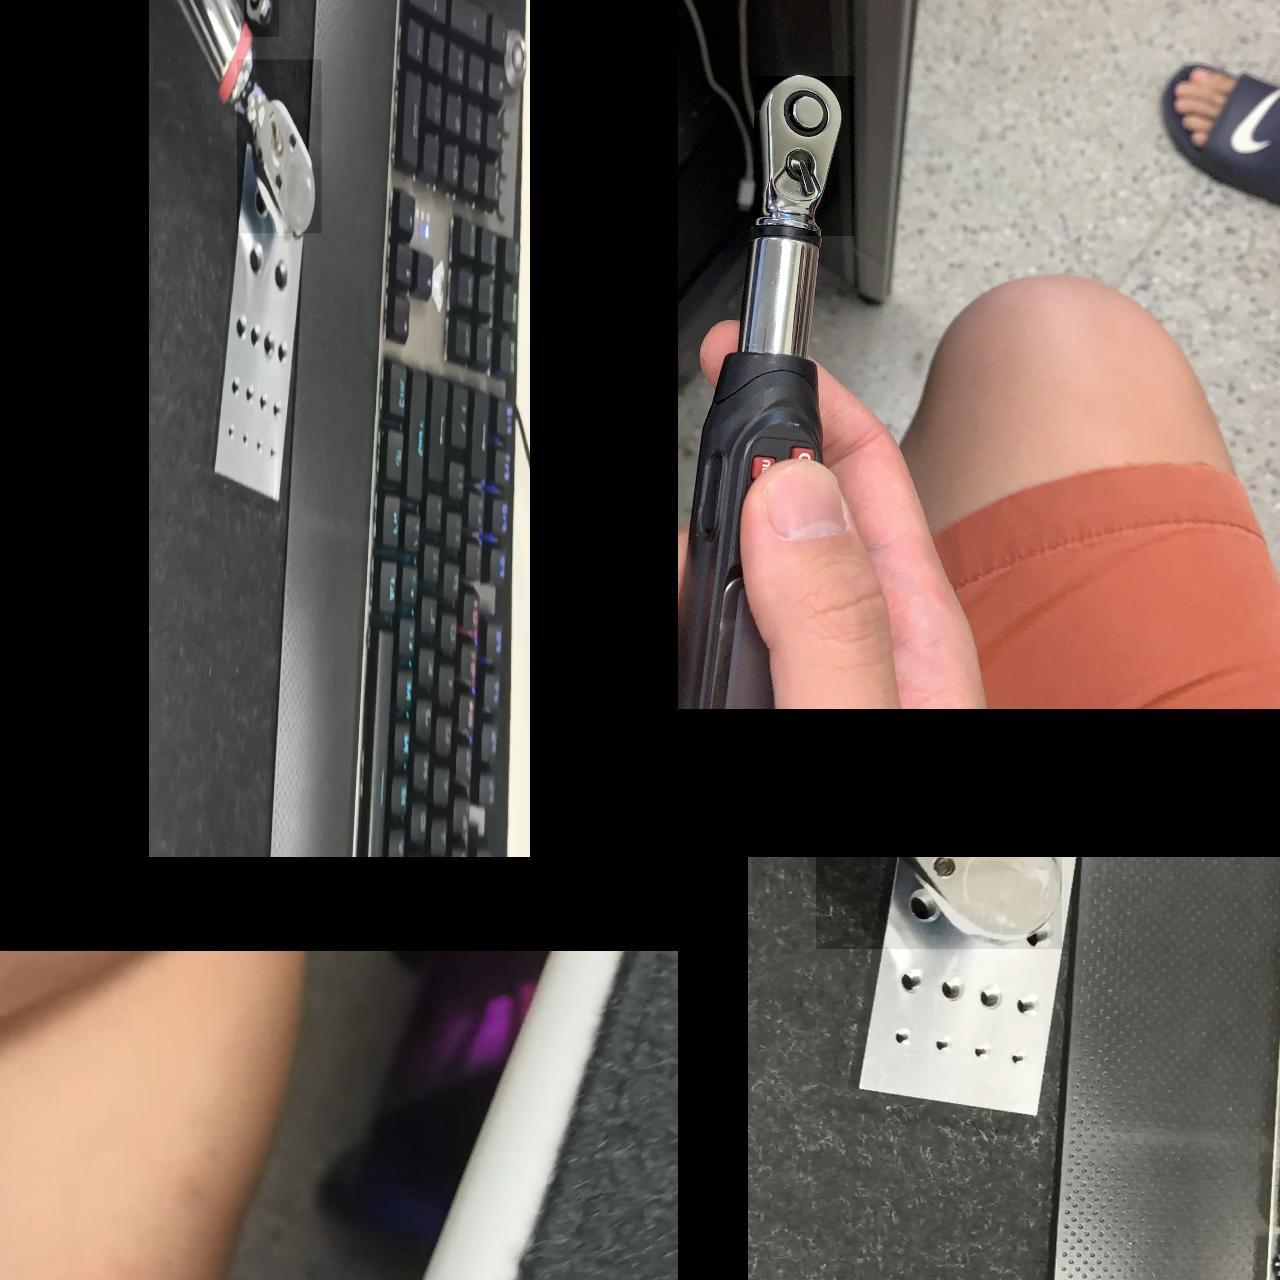Tool: (815, 857, 1061, 949), (753, 76, 853, 236), (236, 60, 321, 233), (244, 0, 279, 38)
